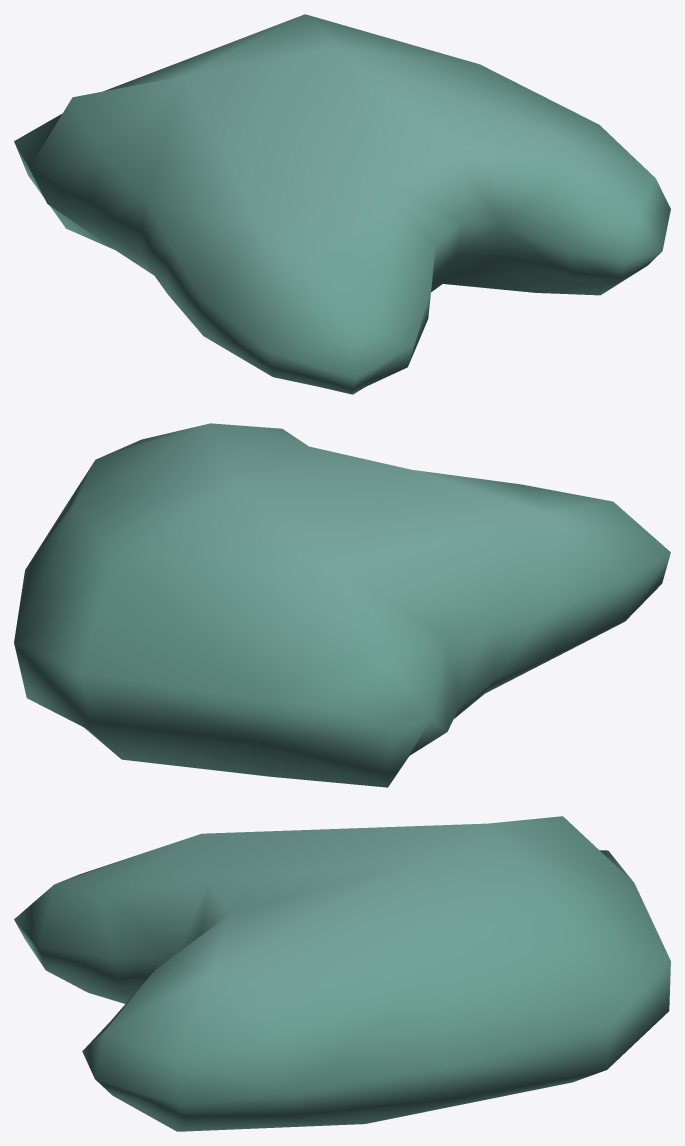
File: SeaweedLumpA.glb
The picture shows the model from 3 angles, top to bottom: view 1: azimuth 30°, elevation 25°; view 2: azimuth 150°, elevation 25°; view 3: azimuth 270°, elevation 25°; orthographic projection. The views are drawn at different scales.
Visible parts, largest first — view 1: SeaweedLumpA; view 2: SeaweedLumpA; view 3: SeaweedLumpA.
Part boxes in pixels (box(x1,y1,x2,y2)): SeaweedLumpA: box(14, 14, 670, 394); SeaweedLumpA: box(14, 423, 670, 787); SeaweedLumpA: box(14, 816, 670, 1131).
Size of the model in its own units: 0.2748 by 0.1008 by 0.3249.
